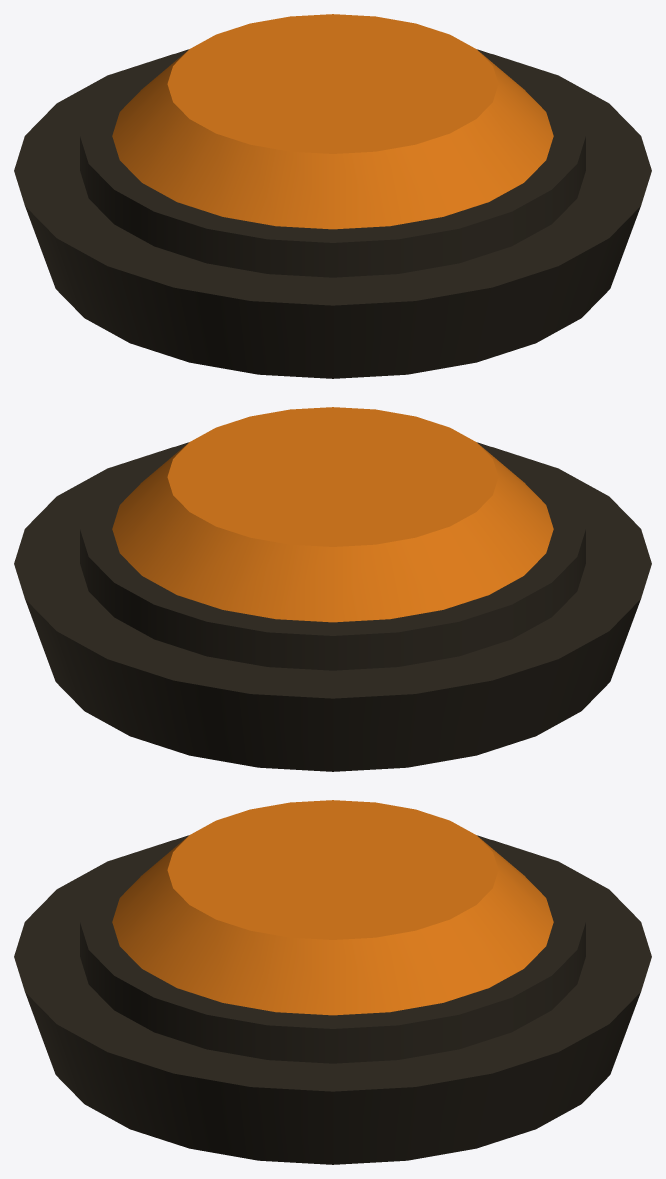
Rendered from lava.glb.
3 renders of one model, top to bottom at view 1: azimuth 30°, elevation 25°; view 2: azimuth 150°, elevation 25°; view 3: azimuth 270°, elevation 25°, orthographic.
Visible parts, largest first — view 1: mergedBlocks(Clone); view 2: mergedBlocks(Clone); view 3: mergedBlocks(Clone).
Boxes of the visible parts, x1,y1,x2,y2 form: mergedBlocks(Clone): (14, 14, 651, 378); mergedBlocks(Clone): (14, 407, 651, 771); mergedBlocks(Clone): (14, 800, 651, 1164).
Size of the model in its own units: 1 by 0.3 by 1.
